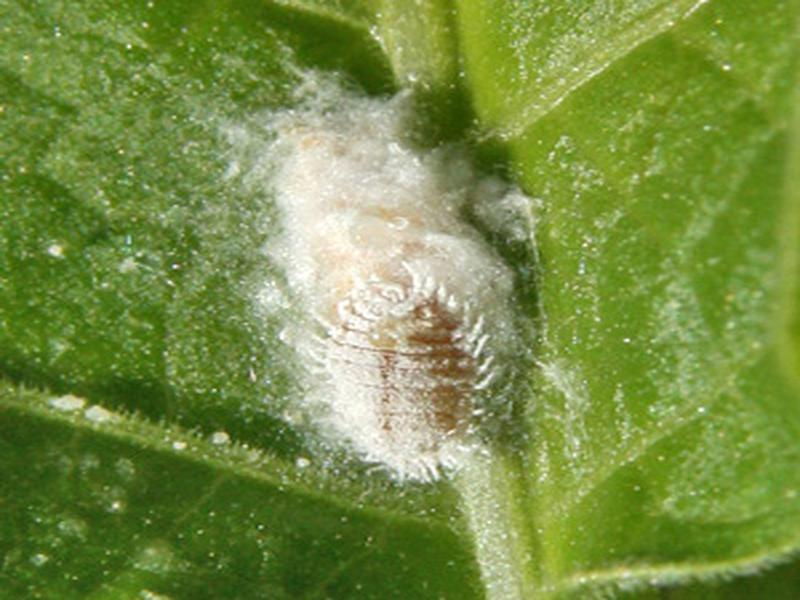Mealy_bug: (246, 101, 533, 484)
